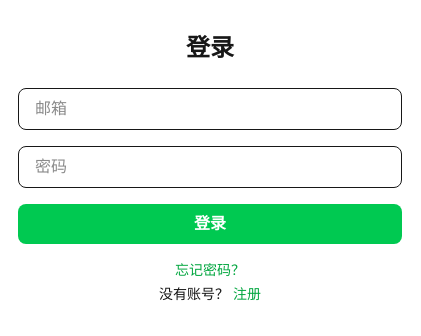
Test case: LoginPage › shows error message on login failure
The width and height of the screenshot is (421, 336).
Type "a@b.com" into the field with placeholder "邮箱" at (210, 109), box [18, 88, 402, 130]
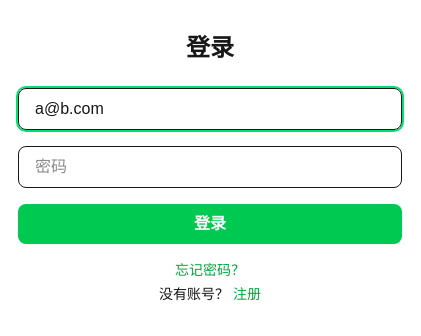
Type "wrong" into the password field with placeholder "密码" at (210, 167), box [18, 146, 402, 188]
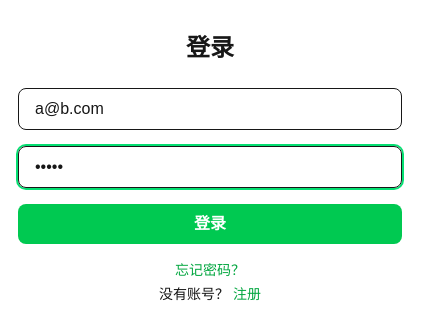
Click the button "登录" at (210, 224), box [18, 204, 402, 244]
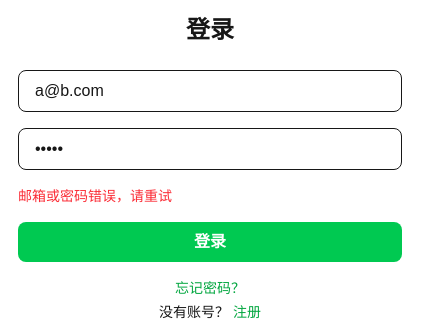
Result: the message "邮箱或密码错误，请重试" is shown at [18, 188, 172, 204]
